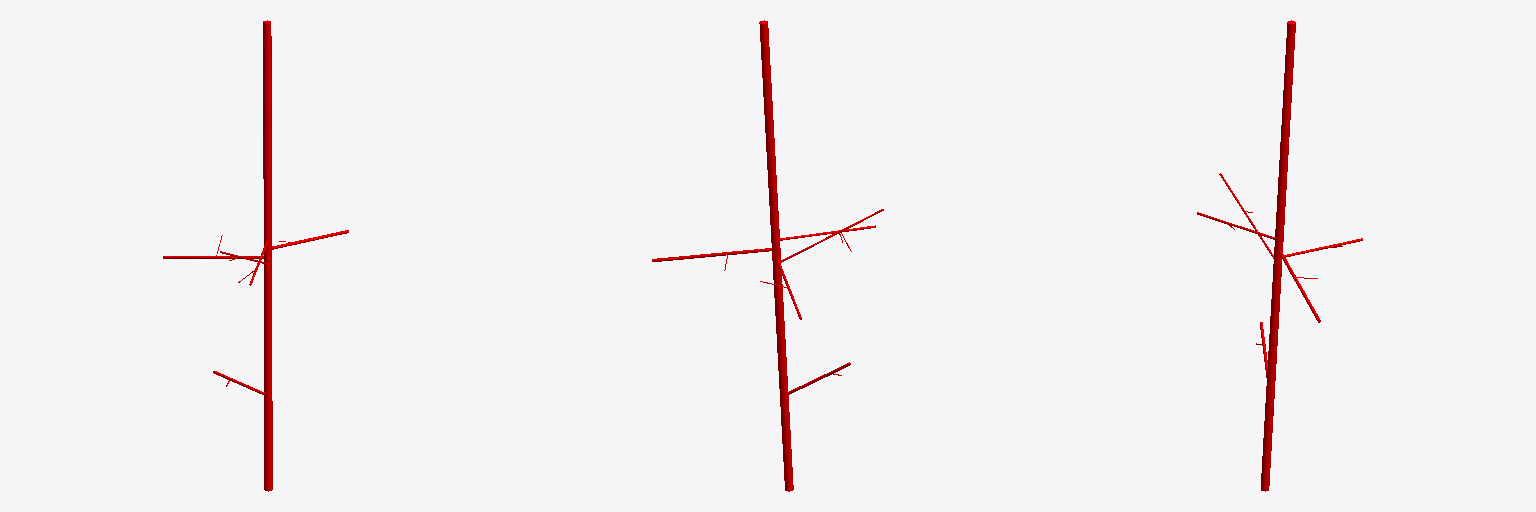
URDF robot description (tree_15.urdf):
<?xml version='1.0' encoding='UTF-8'?>
<robot name="tree_15.urdf">
  <link name="branch_0">
    <inertial>
      <origin xyz="0.0 0.0 0.0" rpy="0.0 -0.0 0.0"/>
      <mass value="0.1"/>
      <inertia ixx="0.001" ixy="0.0" ixz="0.0" iyy="0.001" iyz="0.0" izz="0.001"/>
    </inertial>
    <visual name="branch_0_visual">
      <geometry>
        <cylinder radius="0.08835608878369015" length="10.593358033193384"/>
      </geometry>
      <material name="semantic_material"/>
      <origin xyz="0.1414175434114158 0.27188368777773453 5.2878056832292515" rpy="6.938893903907228e-18 0.05789182195349904 1.0911669494637781"/>
    </visual>
    <collision name="branch_0_collision">
      <geometry>
        <cylinder radius="0.08835608878369015" length="10.593358033193384"/>
      </geometry>
      <origin xyz="0.1414175434114158 0.27188368777773453 5.2878056832292515" rpy="6.938893903907228e-18 0.05789182195349904 1.0911669494637781"/>
    </collision>
  </link>
  <link name="branch_1">
    <inertial>
      <origin xyz="0.0 0.0 0.0" rpy="0.0 -0.0 0.0"/>
      <mass value="0.1"/>
      <inertia ixx="0.001" ixy="0.0" ixz="0.0" iyy="0.001" iyz="0.0" izz="0.001"/>
    </inertial>
    <visual name="branch_1_visual">
      <geometry>
        <cylinder radius="0.025347820335966335" length="2.1583296688798175"/>
      </geometry>
      <material name="semantic_material"/>
      <origin xyz="0.0 0.0 0.0" rpy="0.0 -0.0 0.0"/>
    </visual>
    <collision name="branch_1_collision">
      <geometry>
        <cylinder radius="0.025347820335966335" length="2.1583296688798175"/>
      </geometry>
      <origin xyz="0.0 0.0 0.0" rpy="0.0 -0.0 0.0"/>
    </collision>
  </link>
  <link name="branch_2">
    <inertial>
      <origin xyz="0.0 0.0 0.0" rpy="0.0 -0.0 0.0"/>
      <mass value="0.1"/>
      <inertia ixx="0.001" ixy="0.0" ixz="0.0" iyy="0.001" iyz="0.0" izz="0.001"/>
    </inertial>
    <visual name="branch_2_visual">
      <geometry>
        <cylinder radius="0.01" length="0.5007034369100555"/>
      </geometry>
      <material name="semantic_material"/>
      <origin xyz="0.0 0.0 0.0" rpy="0.0 -0.0 0.0"/>
    </visual>
    <collision name="branch_2_collision">
      <geometry>
        <cylinder radius="0.01" length="0.5007034369100555"/>
      </geometry>
      <origin xyz="0.0 0.0 0.0" rpy="0.0 -0.0 0.0"/>
    </collision>
  </link>
  <link name="branch_3">
    <inertial>
      <origin xyz="0.0 0.0 0.0" rpy="0.0 -0.0 0.0"/>
      <mass value="0.1"/>
      <inertia ixx="0.001" ixy="0.0" ixz="0.0" iyy="0.001" iyz="0.0" izz="0.001"/>
    </inertial>
    <visual name="branch_3_visual">
      <geometry>
        <cylinder radius="0.027842591697519393" length="2.3280335495675635"/>
      </geometry>
      <material name="semantic_material"/>
      <origin xyz="0.0 0.0 0.0" rpy="0.0 -0.0 0.0"/>
    </visual>
    <collision name="branch_3_collision">
      <geometry>
        <cylinder radius="0.027842591697519393" length="2.3280335495675635"/>
      </geometry>
      <origin xyz="0.0 0.0 0.0" rpy="0.0 -0.0 0.0"/>
    </collision>
  </link>
  <link name="branch_4">
    <inertial>
      <origin xyz="0.0 0.0 0.0" rpy="0.0 -0.0 0.0"/>
      <mass value="0.1"/>
      <inertia ixx="0.001" ixy="0.0" ixz="0.0" iyy="0.001" iyz="0.0" izz="0.001"/>
    </inertial>
    <visual name="branch_4_visual">
      <geometry>
        <cylinder radius="0.01" length="0.6564430665766904"/>
      </geometry>
      <material name="semantic_material"/>
      <origin xyz="0.0 0.0 0.0" rpy="0.0 -0.0 0.0"/>
    </visual>
    <collision name="branch_4_collision">
      <geometry>
        <cylinder radius="0.01" length="0.6564430665766904"/>
      </geometry>
      <origin xyz="0.0 0.0 0.0" rpy="0.0 -0.0 0.0"/>
    </collision>
  </link>
  <link name="branch_5">
    <inertial>
      <origin xyz="0.0 0.0 0.0" rpy="0.0 -0.0 0.0"/>
      <mass value="0.1"/>
      <inertia ixx="0.001" ixy="0.0" ixz="0.0" iyy="0.001" iyz="0.0" izz="0.001"/>
    </inertial>
    <visual name="branch_5_visual">
      <geometry>
        <cylinder radius="0.03466708118607867" length="2.598017916869437"/>
      </geometry>
      <material name="semantic_material"/>
      <origin xyz="0.0 0.0 0.0" rpy="0.0 -0.0 0.0"/>
    </visual>
    <collision name="branch_5_collision">
      <geometry>
        <cylinder radius="0.03466708118607867" length="2.598017916869437"/>
      </geometry>
      <origin xyz="0.0 0.0 0.0" rpy="0.0 -0.0 0.0"/>
    </collision>
  </link>
  <link name="branch_6">
    <inertial>
      <origin xyz="0.0 0.0 0.0" rpy="0.0 -0.0 0.0"/>
      <mass value="0.1"/>
      <inertia ixx="0.001" ixy="0.0" ixz="0.0" iyy="0.001" iyz="0.0" izz="0.001"/>
    </inertial>
    <visual name="branch_6_visual">
      <geometry>
        <cylinder radius="0.01" length="0.5356360598424854"/>
      </geometry>
      <material name="semantic_material"/>
      <origin xyz="0.0 0.0 0.0" rpy="0.0 -0.0 0.0"/>
    </visual>
    <collision name="branch_6_collision">
      <geometry>
        <cylinder radius="0.01" length="0.5356360598424854"/>
      </geometry>
      <origin xyz="0.0 0.0 0.0" rpy="0.0 -0.0 0.0"/>
    </collision>
  </link>
  <link name="branch_7">
    <inertial>
      <origin xyz="0.0 0.0 0.0" rpy="0.0 -0.0 0.0"/>
      <mass value="0.1"/>
      <inertia ixx="0.001" ixy="0.0" ixz="0.0" iyy="0.001" iyz="0.0" izz="0.001"/>
    </inertial>
    <visual name="branch_7_visual">
      <geometry>
        <cylinder radius="0.02142231150174776" length="2.4509902217771784"/>
      </geometry>
      <material name="semantic_material"/>
      <origin xyz="0.0 0.0 0.0" rpy="0.0 -0.0 0.0"/>
    </visual>
    <collision name="branch_7_collision">
      <geometry>
        <cylinder radius="0.02142231150174776" length="2.4509902217771784"/>
      </geometry>
      <origin xyz="0.0 0.0 0.0" rpy="0.0 -0.0 0.0"/>
    </collision>
  </link>
  <link name="branch_8">
    <inertial>
      <origin xyz="0.0 0.0 0.0" rpy="0.0 -0.0 0.0"/>
      <mass value="0.1"/>
      <inertia ixx="0.001" ixy="0.0" ixz="0.0" iyy="0.001" iyz="0.0" izz="0.001"/>
    </inertial>
    <visual name="branch_8_visual">
      <geometry>
        <cylinder radius="0.01" length="0.2732669634141436"/>
      </geometry>
      <material name="semantic_material"/>
      <origin xyz="0.0 0.0 0.0" rpy="0.0 -0.0 0.0"/>
    </visual>
    <collision name="branch_8_collision">
      <geometry>
        <cylinder radius="0.01" length="0.2732669634141436"/>
      </geometry>
      <origin xyz="0.0 0.0 0.0" rpy="0.0 -0.0 0.0"/>
    </collision>
  </link>
  <link name="branch_9">
    <inertial>
      <origin xyz="0.0 0.0 0.0" rpy="0.0 -0.0 0.0"/>
      <mass value="0.1"/>
      <inertia ixx="0.001" ixy="0.0" ixz="0.0" iyy="0.001" iyz="0.0" izz="0.001"/>
    </inertial>
    <visual name="branch_9_visual">
      <geometry>
        <cylinder radius="0.03182687844859621" length="1.737489580479919"/>
      </geometry>
      <material name="semantic_material"/>
      <origin xyz="0.0 0.0 0.0" rpy="0.0 -0.0 0.0"/>
    </visual>
    <collision name="branch_9_collision">
      <geometry>
        <cylinder radius="0.03182687844859621" length="1.737489580479919"/>
      </geometry>
      <origin xyz="0.0 0.0 0.0" rpy="0.0 -0.0 0.0"/>
    </collision>
  </link>
  <link name="branch_10">
    <inertial>
      <origin xyz="0.0 0.0 0.0" rpy="0.0 -0.0 0.0"/>
      <mass value="0.1"/>
      <inertia ixx="0.001" ixy="0.0" ixz="0.0" iyy="0.001" iyz="0.0" izz="0.001"/>
    </inertial>
    <visual name="branch_10_visual">
      <geometry>
        <cylinder radius="0.011429454579190042" length="0.25358353405862266"/>
      </geometry>
      <material name="semantic_material"/>
      <origin xyz="0.0 0.0 0.0" rpy="0.0 -0.0 0.0"/>
    </visual>
    <collision name="branch_10_collision">
      <geometry>
        <cylinder radius="0.011429454579190042" length="0.25358353405862266"/>
      </geometry>
      <origin xyz="0.0 0.0 0.0" rpy="0.0 -0.0 0.0"/>
    </collision>
  </link>
  <joint name="joint_0_1" type="fixed">
    <parent link="branch_0"/>
    <child link="branch_1"/>
    <axis xyz="1. 0. 0."/>
    <origin xyz="-0.5402344871407161 -0.5382296748950515 5.623455965151828" rpy="2.583986681529066 1.5473292658675113 0.31775426041376864"/>
  </joint>
  <joint name="joint_0_3" type="fixed">
    <parent link="branch_0"/>
    <child link="branch_3"/>
    <axis xyz="1. 0. 0."/>
    <origin xyz="-0.6359615527284439 1.122541925747086 5.088045477364645" rpy="2.7628424407626957 1.4237974751425395 -1.214820363817241"/>
  </joint>
  <joint name="joint_0_5" type="fixed">
    <parent link="branch_0"/>
    <child link="branch_5"/>
    <axis xyz="1. 0. 0."/>
    <origin xyz="1.3530968713807405 0.6918793969987157 5.19931827757433" rpy="-2.9335117823309247 1.3775378937203762 -2.600874744986851"/>
  </joint>
  <joint name="joint_0_7" type="fixed">
    <parent link="branch_0"/>
    <child link="branch_7"/>
    <axis xyz="1. 0. 0."/>
    <origin xyz="-0.7704130465528221 -0.3205014285011643 5.69064641626125" rpy="0.0588840907860599 1.0747303896996032 -2.5032709806753983"/>
  </joint>
  <joint name="joint_0_9" type="fixed">
    <parent link="branch_0"/>
    <child link="branch_9"/>
    <axis xyz="1. 0. 0."/>
    <origin xyz="-0.6593596833432097 0.016698175953453593 2.6109070247054533" rpy="0.08340177413852715 0.9792415795943742 -2.912484832572022"/>
  </joint>
  <joint name="joint_1_2" type="fixed">
    <parent link="branch_0"/>
    <child link="branch_2"/>
    <axis xyz="1. 0. 0."/>
    <origin xyz="-0.9205674935003643 -0.6976517052275505 5.461192801196425" rpy="-2.2479646483079594 0.10952829995597414 1.0350134241340907"/>
  </joint>
  <joint name="joint_3_4" type="fixed">
    <parent link="branch_0"/>
    <child link="branch_4"/>
    <axis xyz="1. 0. 0."/>
    <origin xyz="-0.4242651299247546 1.3406698209192787 5.211307164647313" rpy="-1.1857852269561293 -0.15034126836706824 -0.7980964118331995"/>
  </joint>
  <joint name="joint_5_6" type="fixed">
    <parent link="branch_0"/>
    <child link="branch_6"/>
    <axis xyz="1. 0. 0."/>
    <origin xyz="0.9850272029513213 0.839437372132372 5.185896082555798" rpy="1.8294814844802012 -0.19540583710692636 -2.7885025853980334"/>
  </joint>
  <joint name="joint_7_8" type="fixed">
    <parent link="branch_0"/>
    <child link="branch_8"/>
    <axis xyz="1. 0. 0."/>
    <origin xyz="-1.0134922767250785 -0.33474185944331936 5.7298884855016645" rpy="-2.0754565705108883 0.49698993772106353 0.5752138401582073"/>
  </joint>
  <joint name="joint_9_10" type="fixed">
    <parent link="branch_0"/>
    <child link="branch_10"/>
    <axis xyz="1. 0. 0."/>
    <origin xyz="-1.034038930506077 -0.09952447036843658 2.7654235329240238" rpy="2.079793375266544 0.9463919619446948 -0.43147307697593285"/>
  </joint>
  <material name="semantic_material">
    <color rgba="1. 0. 0. 1."/>
  </material>
</robot>

--- What the picture shows (computed from the rendered views, not written in the file) ---
3 views of the same robot in one strip: view 1: azimuth 30°, elevation 25°; view 2: azimuth 150°, elevation 25°; view 3: azimuth 270°, elevation 25° (orthographic).
Robot: tree_15.urdf — 11 links, 10 joints (10 fixed); root link branch_0; default pose: every joint at zero.
Links seen in each view (by area): view 1: branch_0; view 2: branch_0; view 3: branch_0.
Boxes of the visible links, x1,y1,x2,y2 form: branch_0: (263, 20, 272, 491); branch_0: (759, 20, 793, 491); branch_0: (1261, 20, 1295, 491).
Size in the robot's own frame: 4.27 by 3.38 by 10.59 metres.
Geometry: primitives only (box / cylinder / sphere), no mesh files.
